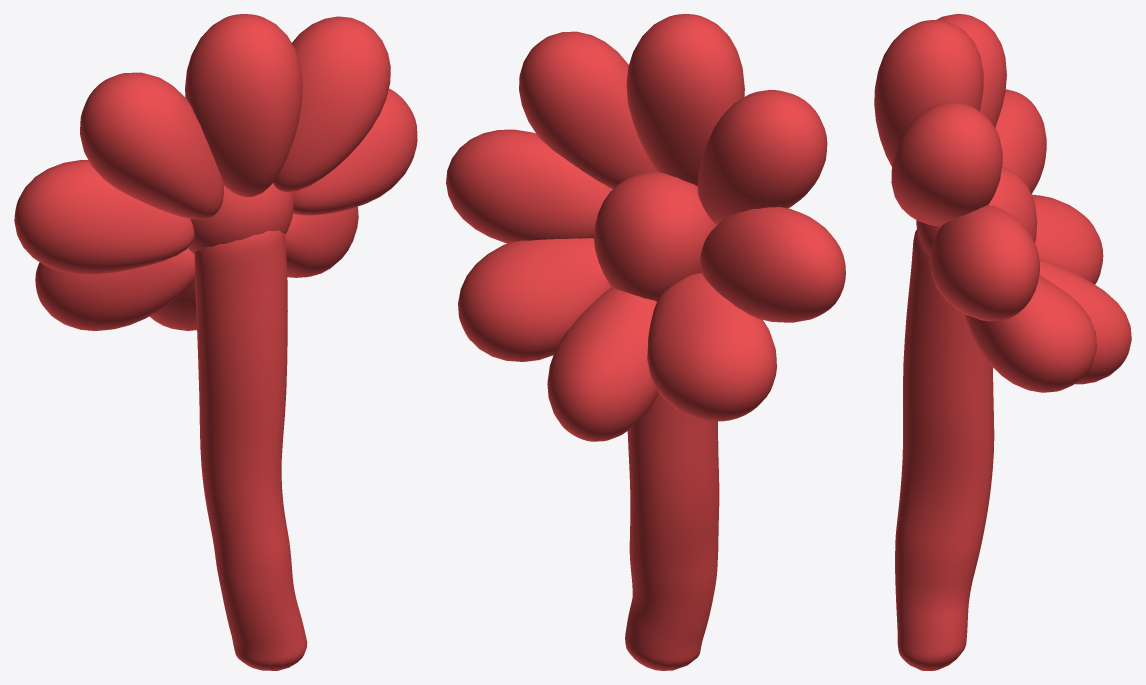
File: PFE_FlowerBalloon.fbx
3 renders of one model, left to right at view 1: azimuth 30°, elevation 25°; view 2: azimuth 150°, elevation 25°; view 3: azimuth 270°, elevation 25°, orthographic. The views are drawn at different scales.
Parts seen in each view (by area): view 1: Sphere, BezierCurve, Sphere.001; view 2: Sphere, BezierCurve, Sphere.001; view 3: Sphere, BezierCurve, Sphere.001.
Boxes of the visible parts, left/top/right/bottom form: Sphere: left=14, top=14, right=417, bottom=330; BezierCurve: left=194, top=230, right=307, bottom=670; Sphere.001: left=187, top=183, right=293, bottom=253; Sphere: left=446, top=14, right=845, bottom=441; BezierCurve: left=625, top=393, right=719, bottom=670; Sphere.001: left=594, top=172, right=716, bottom=301; Sphere: left=874, top=14, right=1131, bottom=392; BezierCurve: left=895, top=229, right=994, bottom=670; Sphere.001: left=916, top=166, right=1037, bottom=255.
Bounding box in the file's own units: 33.77 × 54.24 × 20.06.
